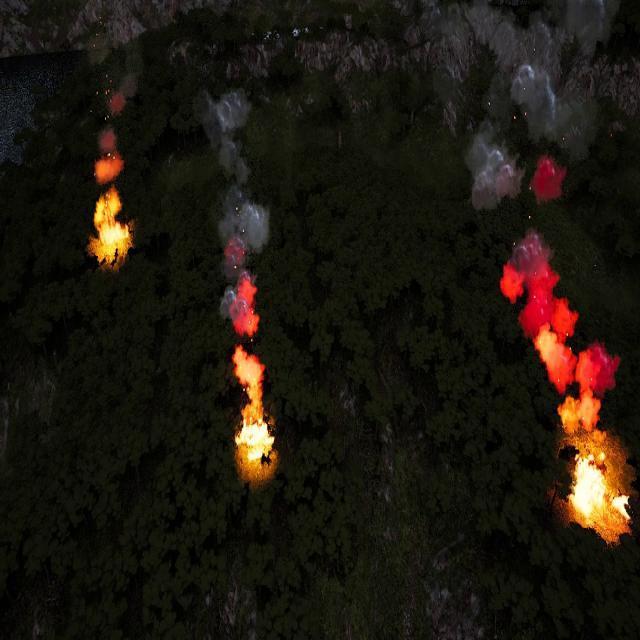fire: (563, 444, 631, 527), (231, 417, 276, 473), (94, 212, 132, 261)
smoke: (465, 31, 623, 442), (202, 86, 276, 419), (92, 45, 139, 209)
